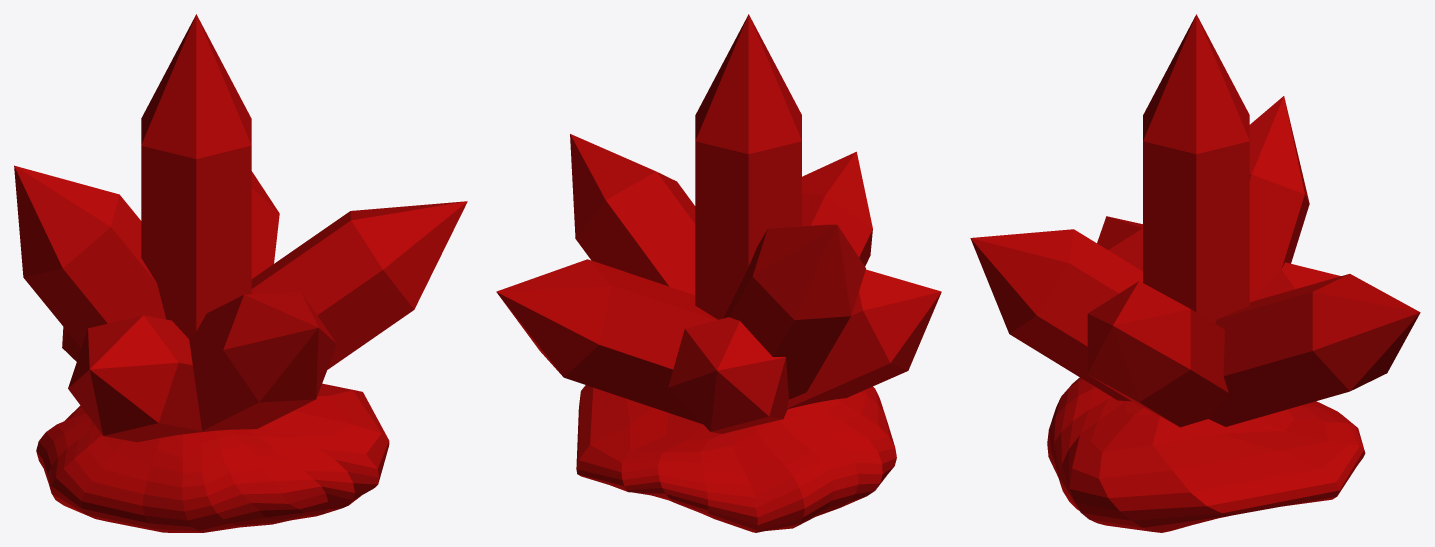
Rendered from kristall.glb.
The picture shows the model from 3 angles, left to right: view 1: azimuth 30°, elevation 25°; view 2: azimuth 150°, elevation 25°; view 3: azimuth 270°, elevation 25°; orthographic projection. The views are drawn at different scales.
Parts seen in each view (by area): view 1: pSphere1, pCylinder1, pCylinder5, pCylinder2, pCylinder6, pCylinder3, pCylinder4; view 2: pSphere1, pCylinder1, pCylinder4, pCylinder2, pCylinder5, pCylinder7, pCylinder3, pCylinder6; view 3: pSphere1, pCylinder1, pCylinder4, pCylinder6, pCylinder5, pCylinder2, pCylinder3, pCylinder7.
Boxes of the visible parts, x1,y1,x2,y2 form: pSphere1: [36, 383, 389, 532]; pCylinder1: [141, 14, 251, 339]; pCylinder5: [251, 201, 467, 369]; pCylinder2: [14, 165, 166, 347]; pCylinder6: [189, 291, 336, 431]; pCylinder3: [68, 315, 205, 442]; pCylinder4: [251, 171, 279, 278]; pSphere1: [576, 385, 896, 532]; pCylinder1: [695, 14, 801, 319]; pCylinder4: [496, 259, 717, 424]; pCylinder2: [723, 224, 865, 399]; pCylinder5: [570, 134, 695, 294]; pCylinder7: [668, 317, 788, 433]; pCylinder3: [787, 269, 941, 409]; pCylinder6: [802, 151, 872, 266]; pSphere1: [1047, 377, 1365, 532]; pCylinder1: [1143, 14, 1249, 323]; pCylinder4: [1209, 274, 1420, 426]; pCylinder6: [970, 229, 1142, 401]; pCylinder5: [1087, 281, 1228, 427]; pCylinder2: [1249, 96, 1309, 302]; pCylinder3: [1097, 216, 1142, 271]; pCylinder7: [1251, 262, 1340, 301].
Bounding box in the file's own units: 0.0691 × 0.0853 × 0.0731.
